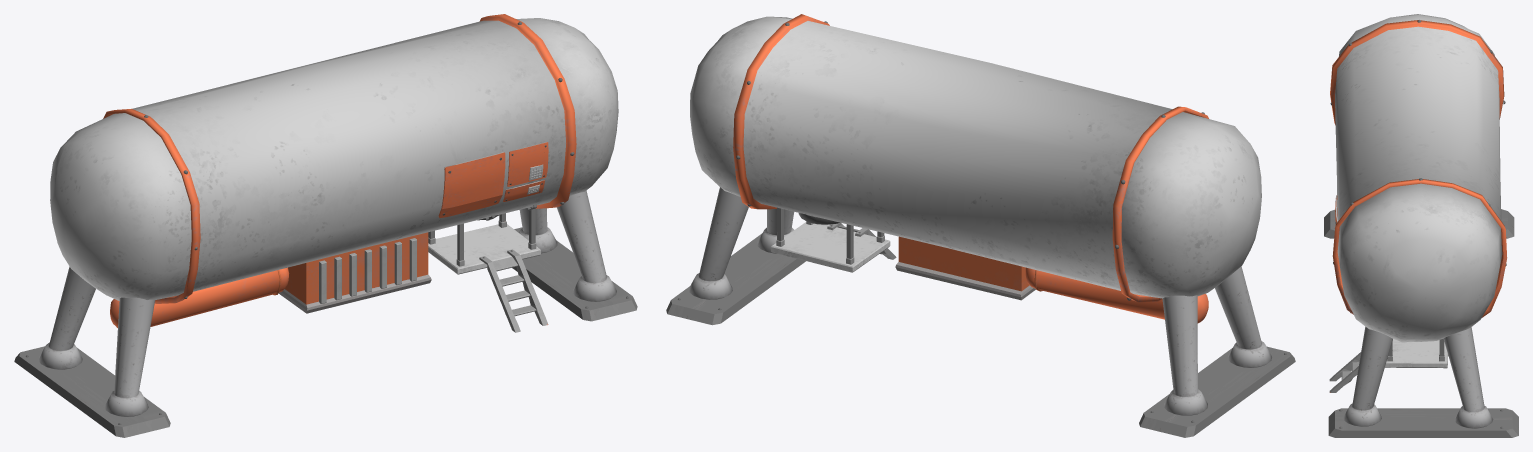
File: Station_MiniStation.fbx
3 renders of one model, left to right at view 1: azimuth 30°, elevation 25°; view 2: azimuth 150°, elevation 25°; view 3: azimuth 270°, elevation 25°, orthographic. The views are drawn at different scales.
Visible parts, largest first — view 1: MiniStation01.001, Station_Panel01.015, Station_Panel01.016; view 2: MiniStation01.001; view 3: MiniStation01.001.
Part boxes in pixels (<box>): MiniStation01.001: <box>14,14,637,437</box>; Station_Panel01.015: <box>438,152,505,217</box>; Station_Panel01.016: <box>507,142,548,186</box>; MiniStation01.001: <box>666,14,1295,437</box>; MiniStation01.001: <box>1324,14,1518,437</box>.
Bounding box in the file's own units: 27.94 × 13.01 × 9.96.
